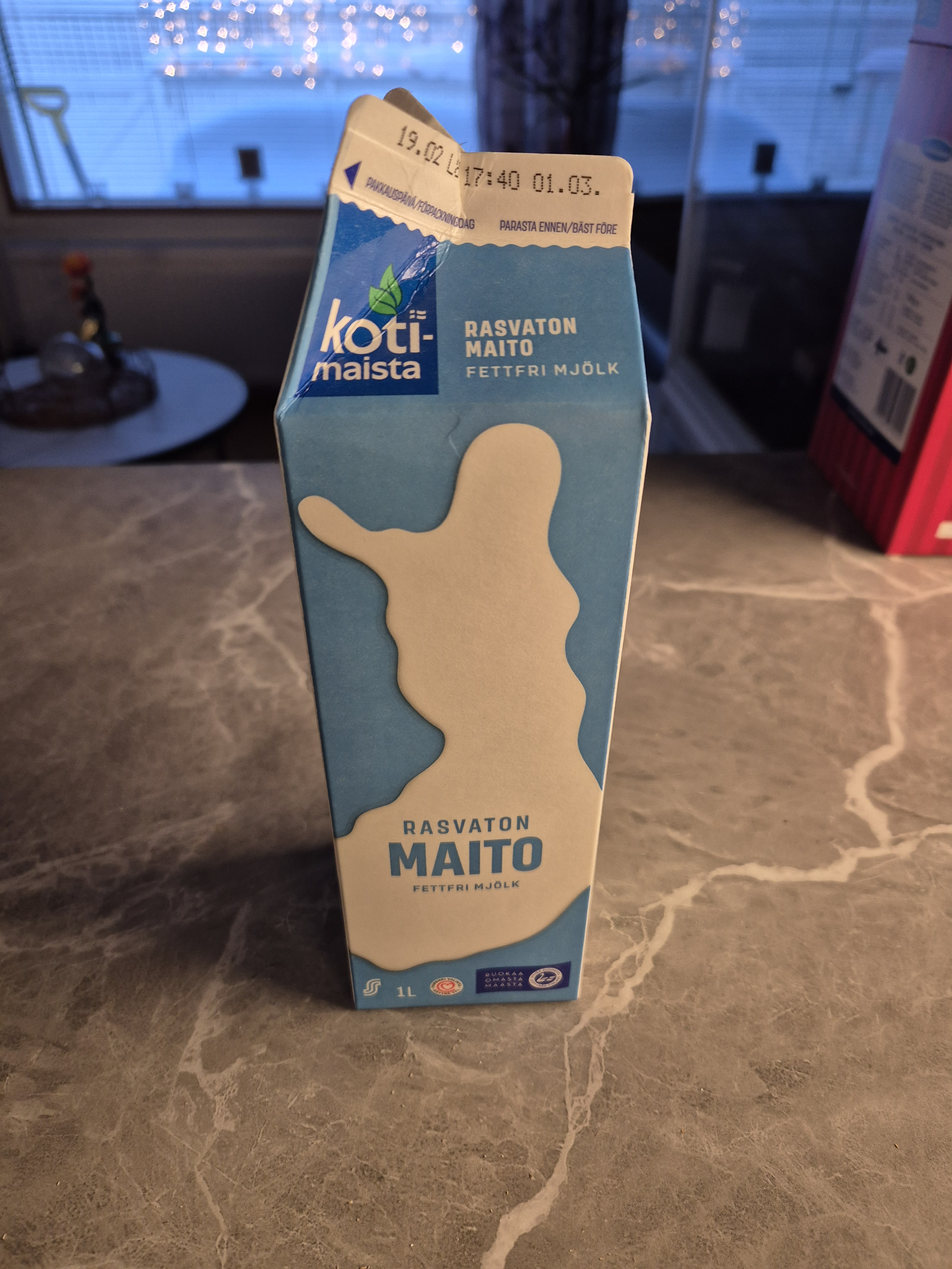Dryckeskartong: (272, 85, 655, 1014)
